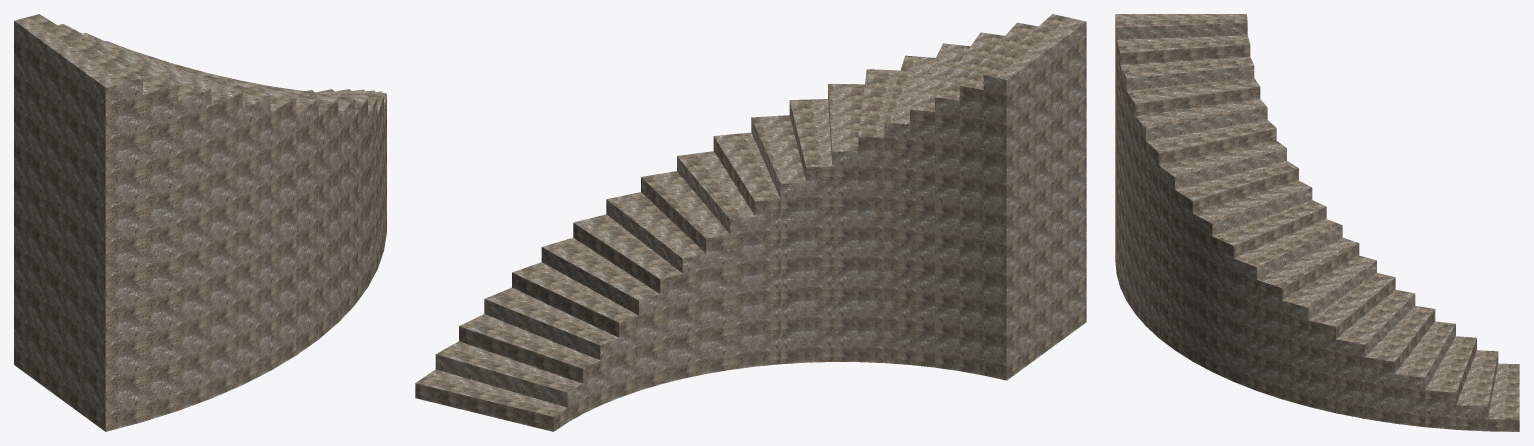
3 views of the same model, side by side, from view 1: azimuth 30°, elevation 25°; view 2: azimuth 150°, elevation 25°; view 3: azimuth 270°, elevation 25° (orthographic). The views are drawn at different scales.
Visible parts, largest first — view 1: TexturesCom_ConcreteRough0076_1_seamless_S; view 2: TexturesCom_ConcreteRough0076_1_seamless_S; view 3: TexturesCom_ConcreteRough0076_1_seamless_S.
Part boxes in pixels (bbox=[...]): TexturesCom_ConcreteRough0076_1_seamless_S: bbox=[14, 14, 386, 431]; TexturesCom_ConcreteRough0076_1_seamless_S: bbox=[415, 14, 1086, 431]; TexturesCom_ConcreteRough0076_1_seamless_S: bbox=[1115, 14, 1519, 431].
Bounding box in the file's own units: 14.82 × 10 × 14.82.
1 material, 1 textured.
